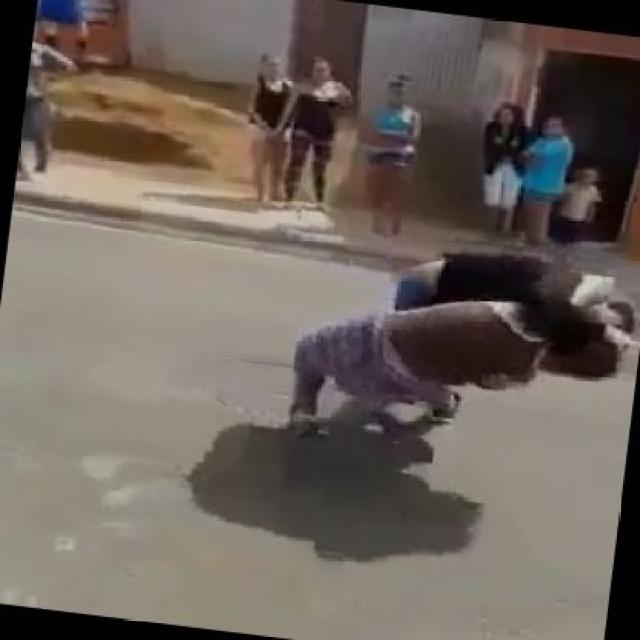fight: (270, 234, 638, 477)
non-fight: (234, 49, 301, 205), (474, 95, 534, 232)
